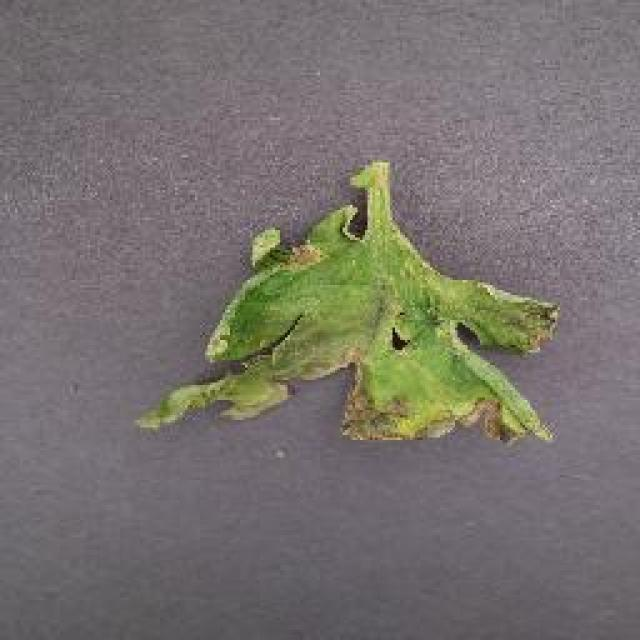Tomato late blight leaf: (140, 160, 560, 448)
